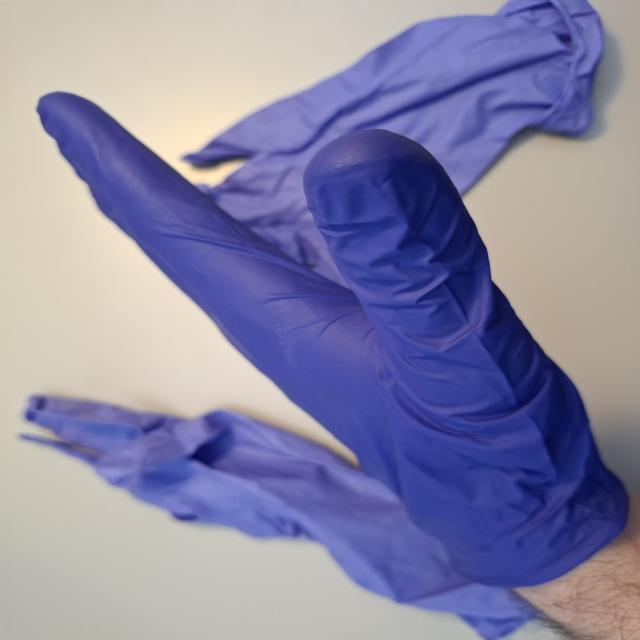glove_on: (33, 89, 638, 597)
